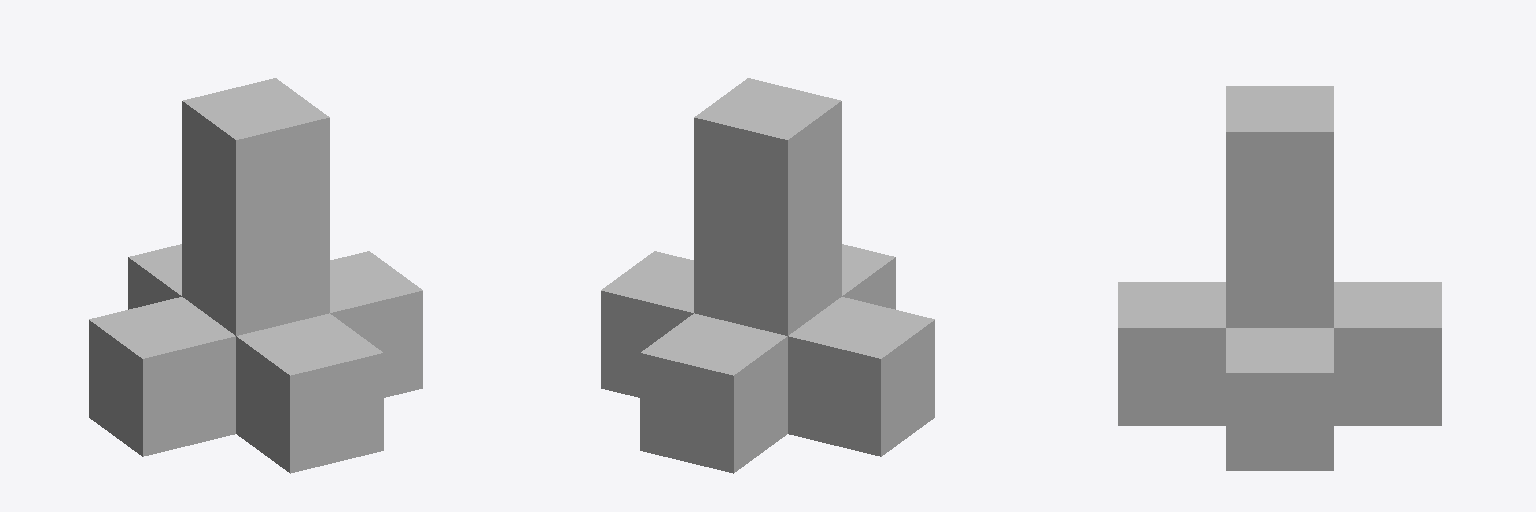
Rendered from Lantern_Light.obj.
The picture shows the model from 3 angles: view 1: azimuth 30°, elevation 25°; view 2: azimuth 150°, elevation 25°; view 3: azimuth 270°, elevation 25°; orthographic projection.
Parts seen in each view (by area): view 1: object 1; view 2: object 1; view 3: object 1.
Part boxes in pixels (bbox=[...]): object 1: bbox=[89, 78, 422, 473]; object 1: bbox=[601, 78, 934, 473]; object 1: bbox=[1118, 86, 1441, 470].
Bounding box in the file's own units: 0.3 × 0.3 × 0.3.